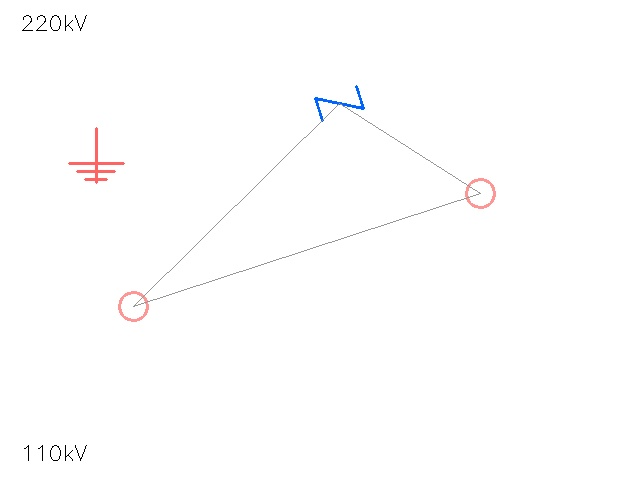circuit_breaker: (315, 79, 363, 127)
ground: (69, 128, 123, 182)
load_break_switch: (105, 278, 161, 334)
reactor: (452, 165, 508, 221)
